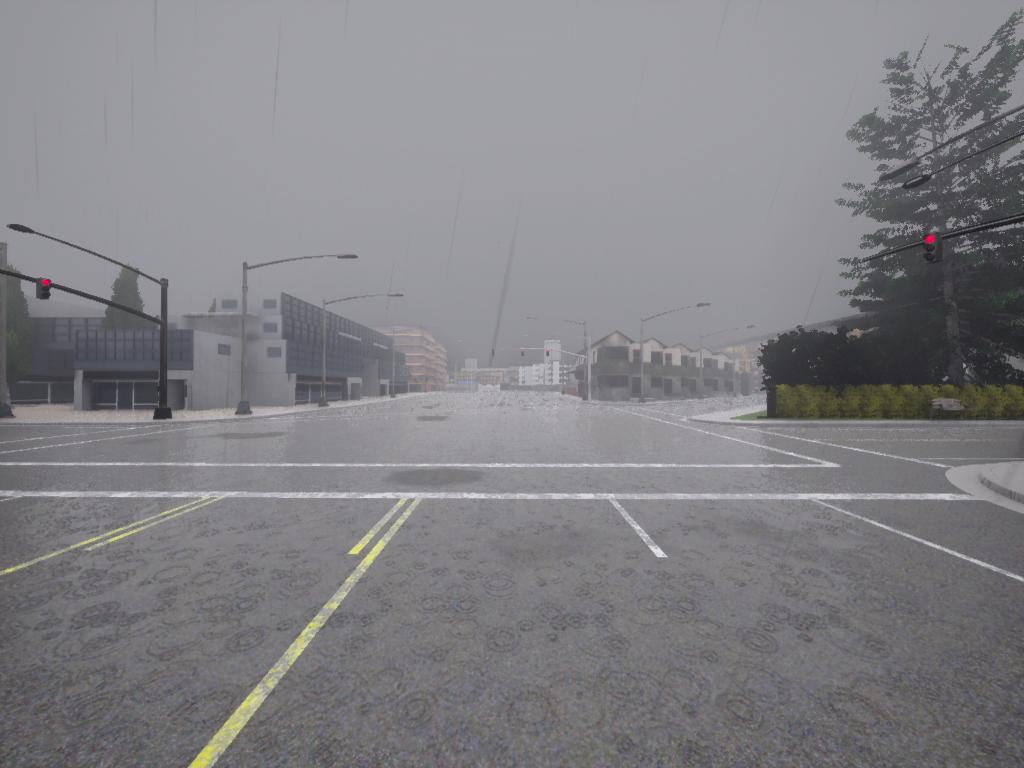traffic_light: (922, 233, 941, 264), (38, 278, 53, 302), (522, 350, 526, 359), (547, 350, 551, 359), (493, 351, 495, 359)
